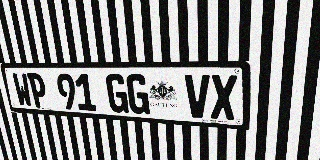1: (73, 73, 96, 111)
9: (55, 73, 78, 110)
G: (126, 74, 150, 115), (105, 74, 129, 113)
P: (27, 73, 49, 108)
V: (185, 74, 210, 118)
W: (11, 73, 33, 107)
X: (211, 75, 237, 120)
